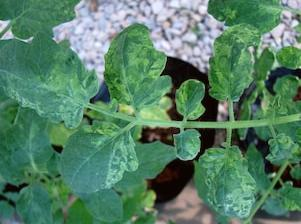Tomato leaf mosaic virus: (0, 32, 98, 126), (57, 117, 139, 199), (101, 23, 173, 112), (189, 135, 256, 224), (208, 25, 264, 101), (207, 0, 283, 37), (173, 73, 206, 120), (170, 126, 200, 161)
